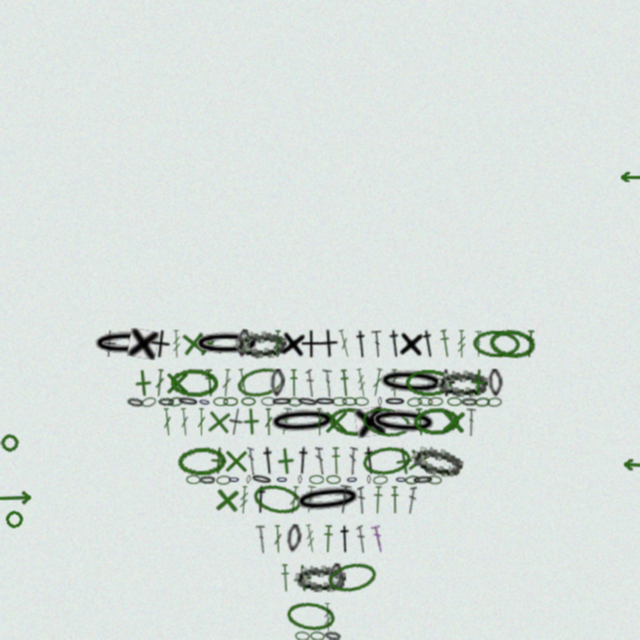chain: (292, 482, 364, 517), (368, 406, 439, 438), (267, 406, 338, 437), (376, 367, 447, 398), (409, 442, 465, 480), (91, 329, 161, 358), (326, 559, 379, 596), (251, 481, 304, 518), (192, 330, 262, 358), (235, 364, 287, 401), (360, 404, 413, 440), (361, 444, 412, 478), (285, 600, 336, 633), (328, 405, 377, 438), (488, 327, 537, 360), (234, 329, 287, 359), (177, 446, 226, 476), (294, 564, 346, 592), (436, 369, 488, 397), (472, 329, 520, 359), (170, 368, 218, 397), (413, 407, 460, 436), (405, 369, 453, 397), (327, 563, 344, 592), (235, 329, 252, 358), (286, 524, 302, 553), (270, 369, 285, 397), (488, 369, 503, 397), (250, 473, 273, 486), (296, 396, 319, 408), (177, 396, 199, 407), (412, 475, 434, 485), (271, 397, 293, 406), (314, 397, 336, 406), (384, 397, 406, 406), (141, 396, 157, 408), (168, 396, 184, 407), (417, 396, 433, 407), (324, 630, 341, 640), (127, 397, 143, 407), (216, 475, 231, 485), (373, 475, 388, 485), (405, 475, 420, 485), (427, 475, 442, 485), (287, 397, 302, 407), (407, 397, 422, 407), (475, 397, 490, 407), (487, 397, 502, 407), (199, 475, 215, 484), (158, 397, 174, 406), (461, 397, 477, 406), (295, 631, 310, 640), (310, 631, 325, 640), (186, 475, 201, 484), (309, 475, 324, 484), (326, 475, 341, 484), (213, 397, 228, 406), (223, 397, 238, 406), (241, 397, 256, 406), (261, 397, 276, 406), (332, 397, 347, 406), (342, 397, 357, 406), (354, 397, 369, 406), (428, 397, 443, 406), (447, 397, 462, 406), (198, 397, 211, 407), (228, 475, 240, 484), (276, 475, 288, 484), (346, 475, 358, 484), (395, 475, 407, 484), (246, 475, 251, 484), (298, 475, 302, 484), (367, 475, 371, 484), (378, 397, 382, 406)
double: (337, 485, 352, 514), (337, 329, 352, 358), (371, 524, 385, 553), (237, 368, 250, 397), (371, 368, 384, 397), (371, 330, 384, 358), (255, 525, 267, 553), (288, 486, 300, 514), (322, 369, 334, 397), (356, 525, 367, 553), (347, 447, 358, 475), (162, 408, 173, 436), (179, 408, 190, 436), (465, 408, 476, 436), (154, 369, 165, 397), (221, 369, 232, 397), (305, 369, 316, 397), (273, 525, 283, 553), (407, 486, 417, 514), (315, 447, 325, 475), (357, 486, 366, 514), (247, 447, 256, 475), (197, 408, 206, 436), (264, 408, 273, 436), (315, 408, 324, 436), (273, 330, 282, 358)
half_double: (419, 329, 438, 358), (252, 485, 270, 514), (294, 446, 312, 475), (361, 446, 379, 475), (386, 329, 404, 358), (260, 446, 277, 475), (353, 330, 370, 358), (337, 525, 353, 553), (438, 329, 453, 358), (203, 369, 216, 397), (322, 525, 334, 553), (372, 486, 384, 514), (414, 408, 426, 436), (339, 369, 351, 397), (524, 330, 536, 358), (280, 564, 291, 592), (390, 486, 400, 514), (331, 447, 341, 475), (289, 369, 299, 397)
noise: (0, 490, 33, 505), (0, 432, 21, 454), (4, 509, 25, 530), (621, 459, 640, 471), (618, 172, 640, 182)
single: (388, 445, 420, 477), (404, 445, 436, 477), (354, 406, 386, 438), (127, 328, 159, 360), (178, 328, 209, 359), (288, 563, 318, 593), (212, 485, 242, 515), (271, 446, 301, 476), (204, 407, 234, 437), (128, 368, 158, 398), (195, 329, 225, 359), (279, 328, 308, 359), (204, 446, 233, 475), (237, 407, 266, 436), (439, 407, 468, 436), (464, 368, 493, 397), (222, 447, 250, 475), (322, 408, 350, 436), (163, 369, 191, 397), (398, 329, 425, 358), (148, 329, 172, 359), (317, 329, 339, 358), (435, 369, 456, 397), (300, 330, 321, 358), (227, 407, 245, 437), (102, 330, 117, 358)
treble: (304, 524, 317, 553), (304, 485, 317, 514), (279, 407, 292, 436), (355, 368, 368, 397), (323, 603, 333, 631), (239, 486, 249, 514), (390, 369, 399, 397), (172, 330, 181, 358), (457, 330, 466, 358), (474, 330, 483, 358)
